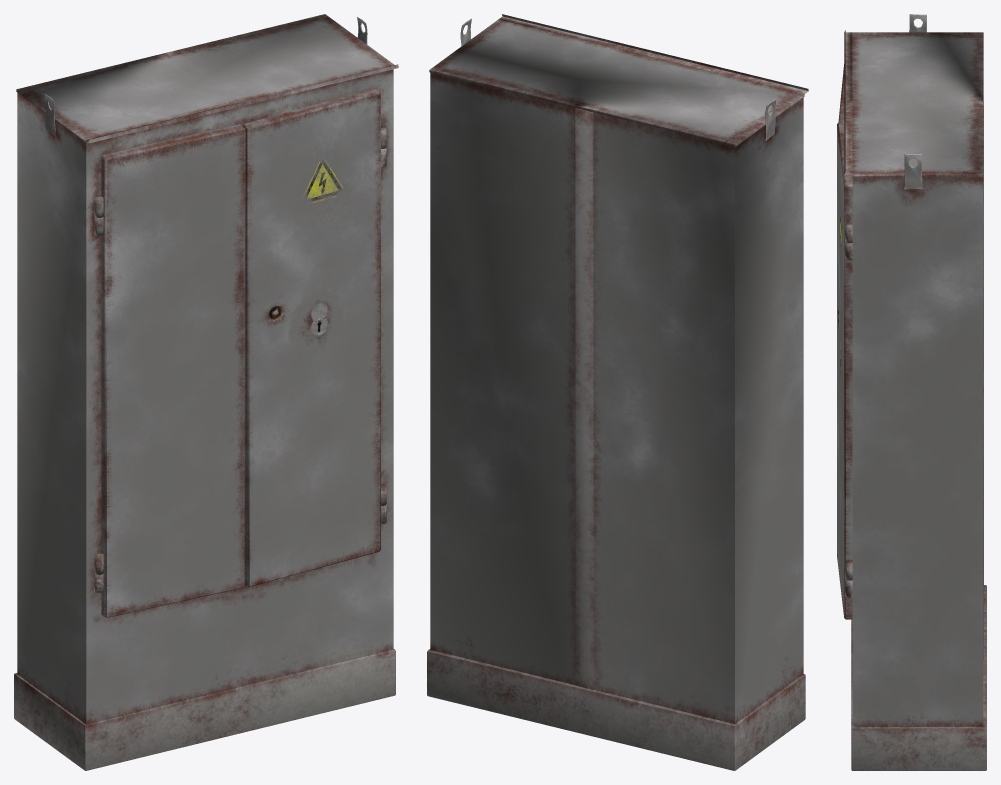
Rendered from cabinet.glb.
3 renders of one model, left to right at view 1: azimuth 30°, elevation 25°; view 2: azimuth 150°, elevation 25°; view 3: azimuth 270°, elevation 25°, orthographic. The views are drawn at different scales.
Visible parts, largest first — view 1: Doors.1_w; view 2: Doors.1_w; view 3: Doors.1_w.
Part boxes in pixels (x1=…): Doors.1_w: x1=14, y1=14, x2=398, y2=770; Doors.1_w: x1=427, y1=14, x2=808, y2=770; Doors.1_w: x1=837, y1=14, x2=986, y2=770.
Bounding box in the file's own units: 0.7779 × 1.55 × 0.3416.
Materials: 4 (4 with a texture image).
